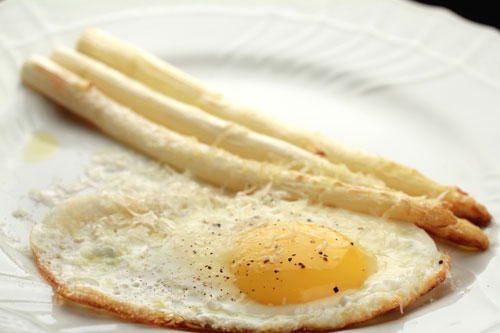fried egg: (76, 197, 420, 318)
